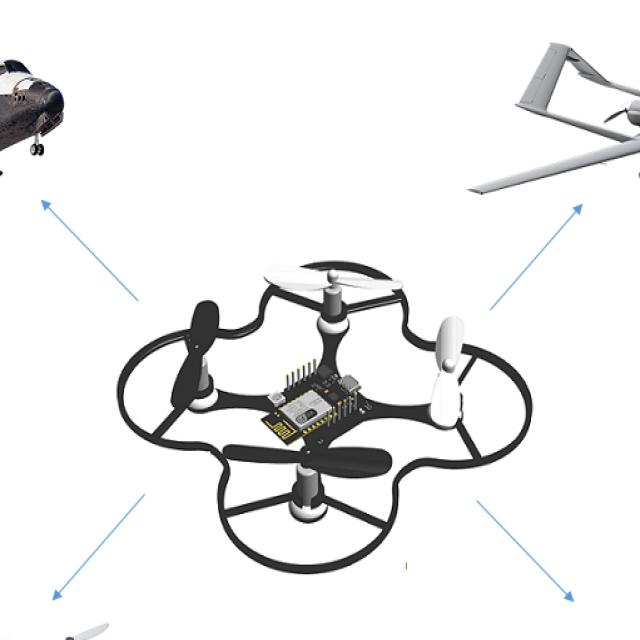drone: (92, 222, 558, 589)
